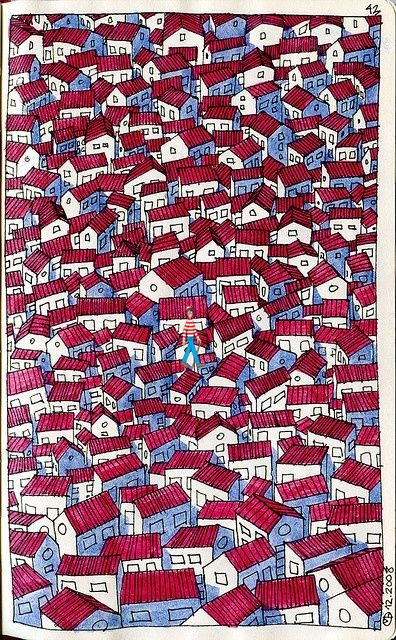waldo: (180, 305, 206, 368)
